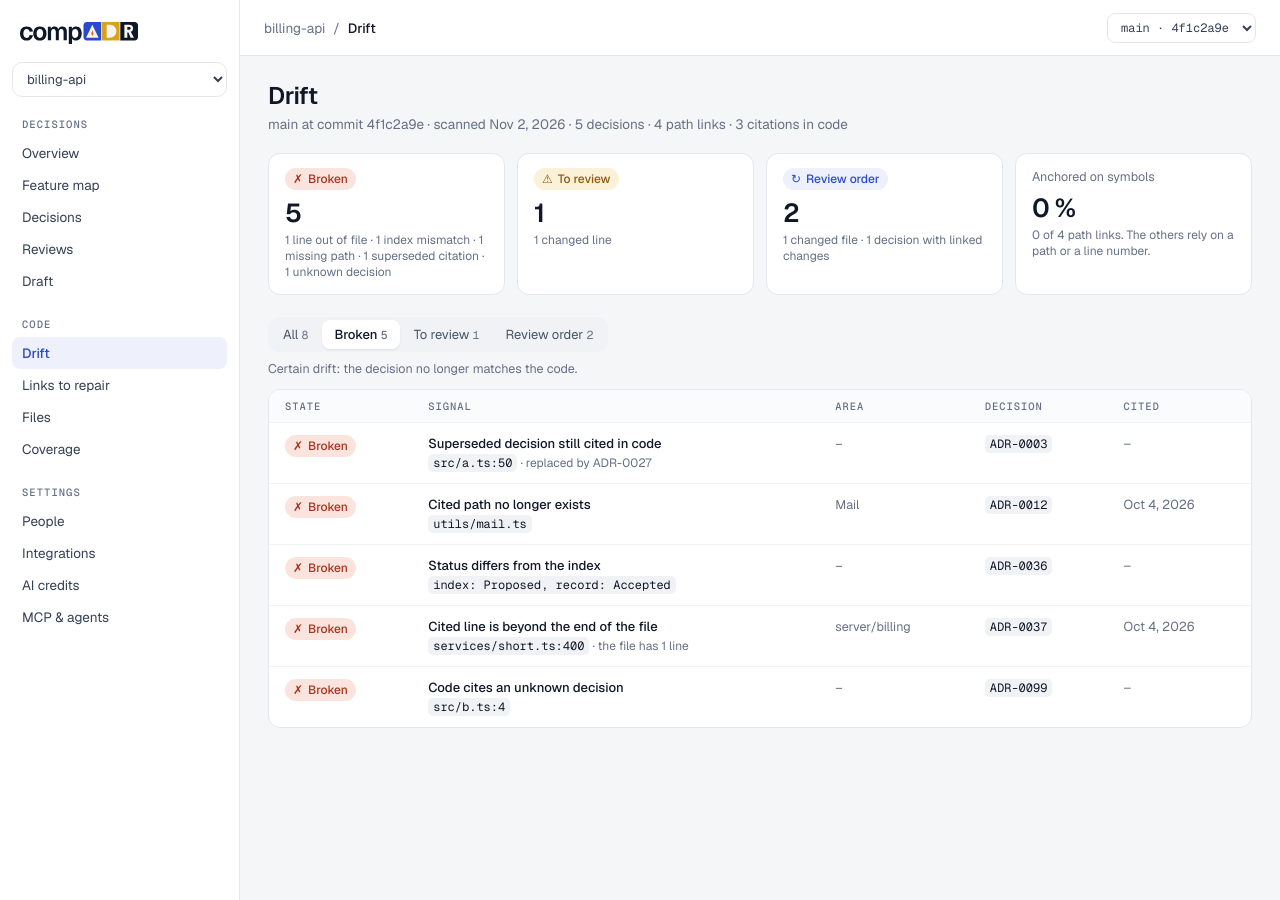
Test: the draft in the console › gives the command when the server keeps no draft
What coordinates should you click on to do the following:
click the button "Decisions"
I would click on:
 (120, 217)
Its box is [12,201,227,233].
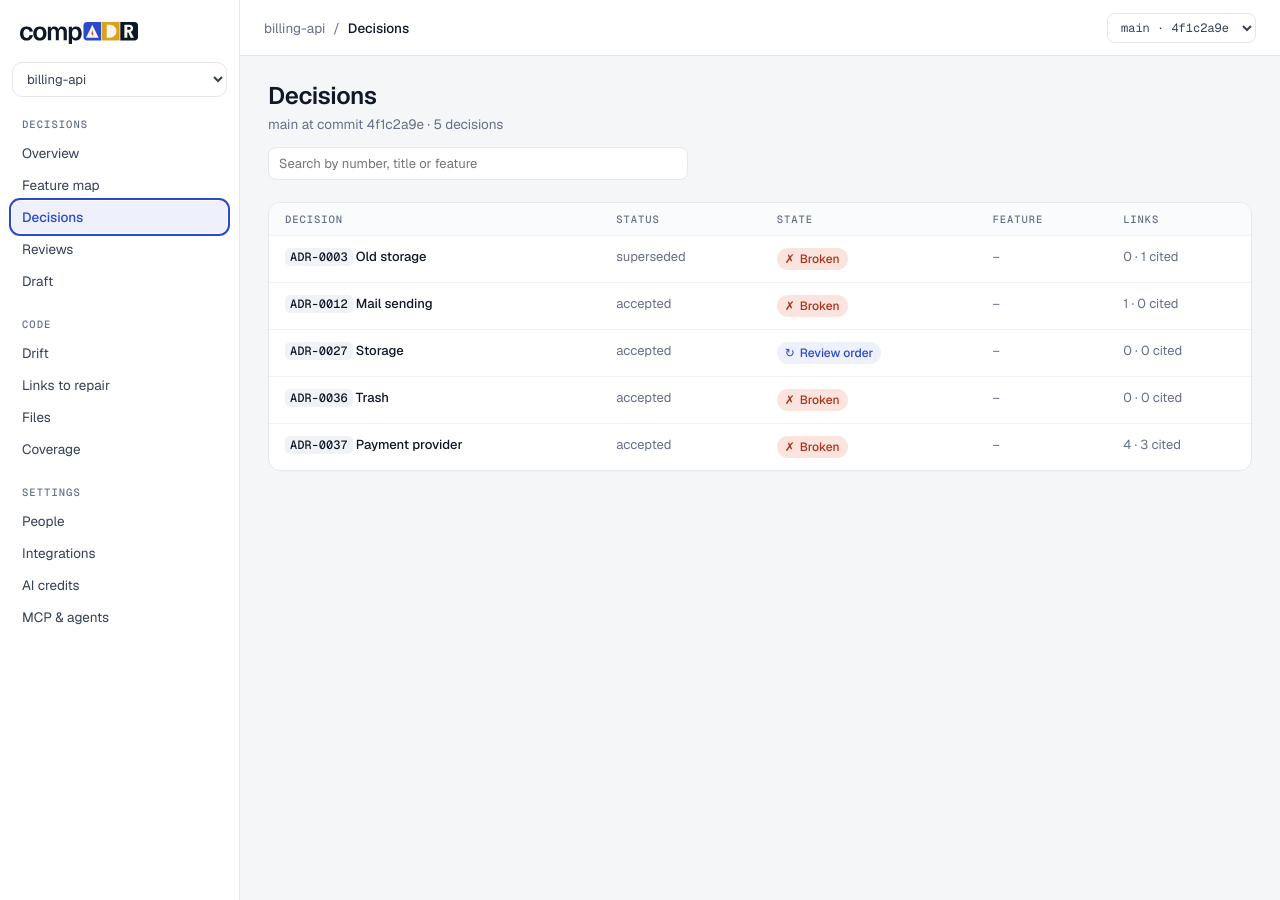
What coordinates should you click on to do the following:
click the button "ADR-0037 Payment provider"
I would click on:
 (374, 444)
Its box is [285,436,463,453].
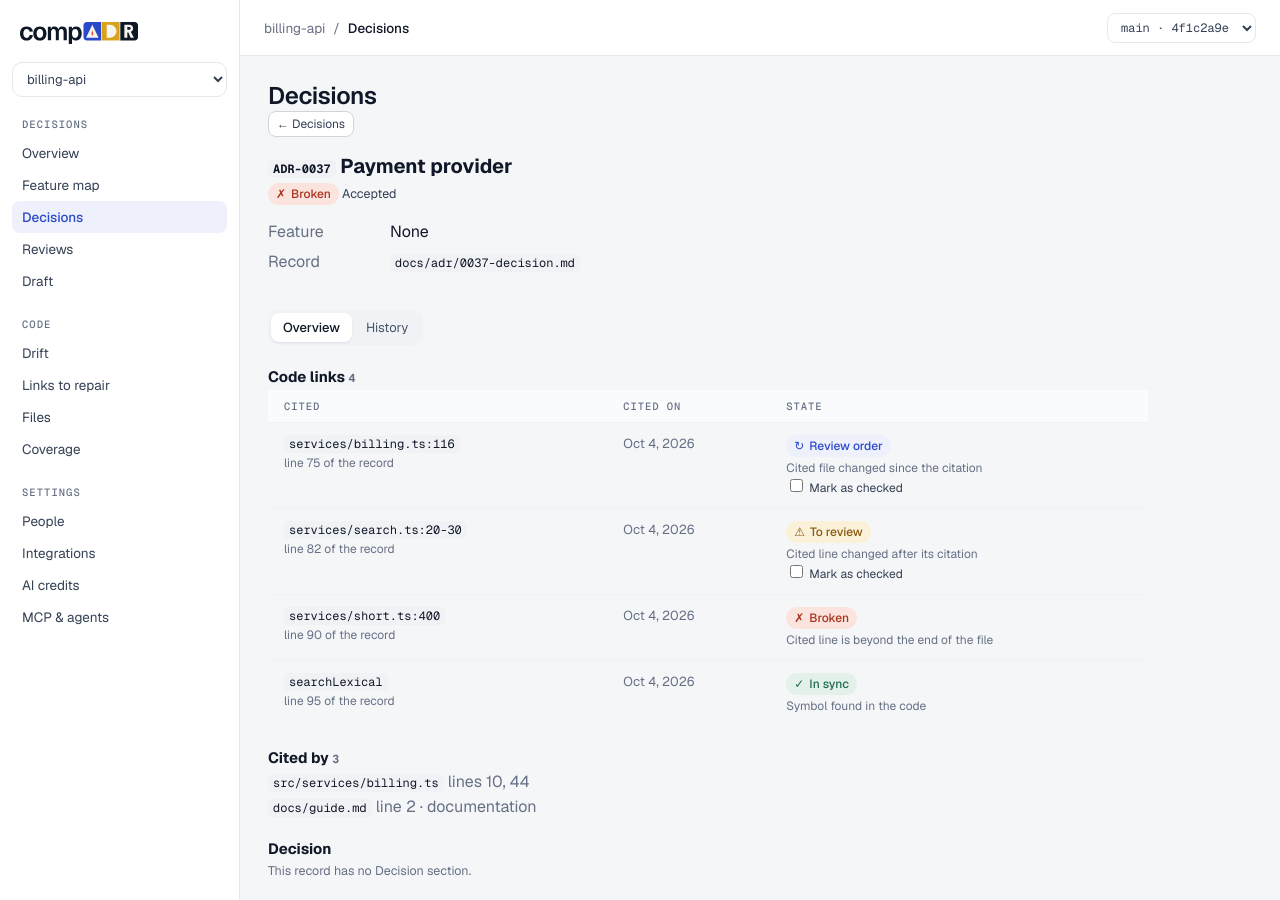
What coordinates should you click on to do the following:
click the checkbox labelled "Mark as checked" below "Cited file changed since the citation"
I would click on:
 (797, 486)
Its box is [790,479,803,492].
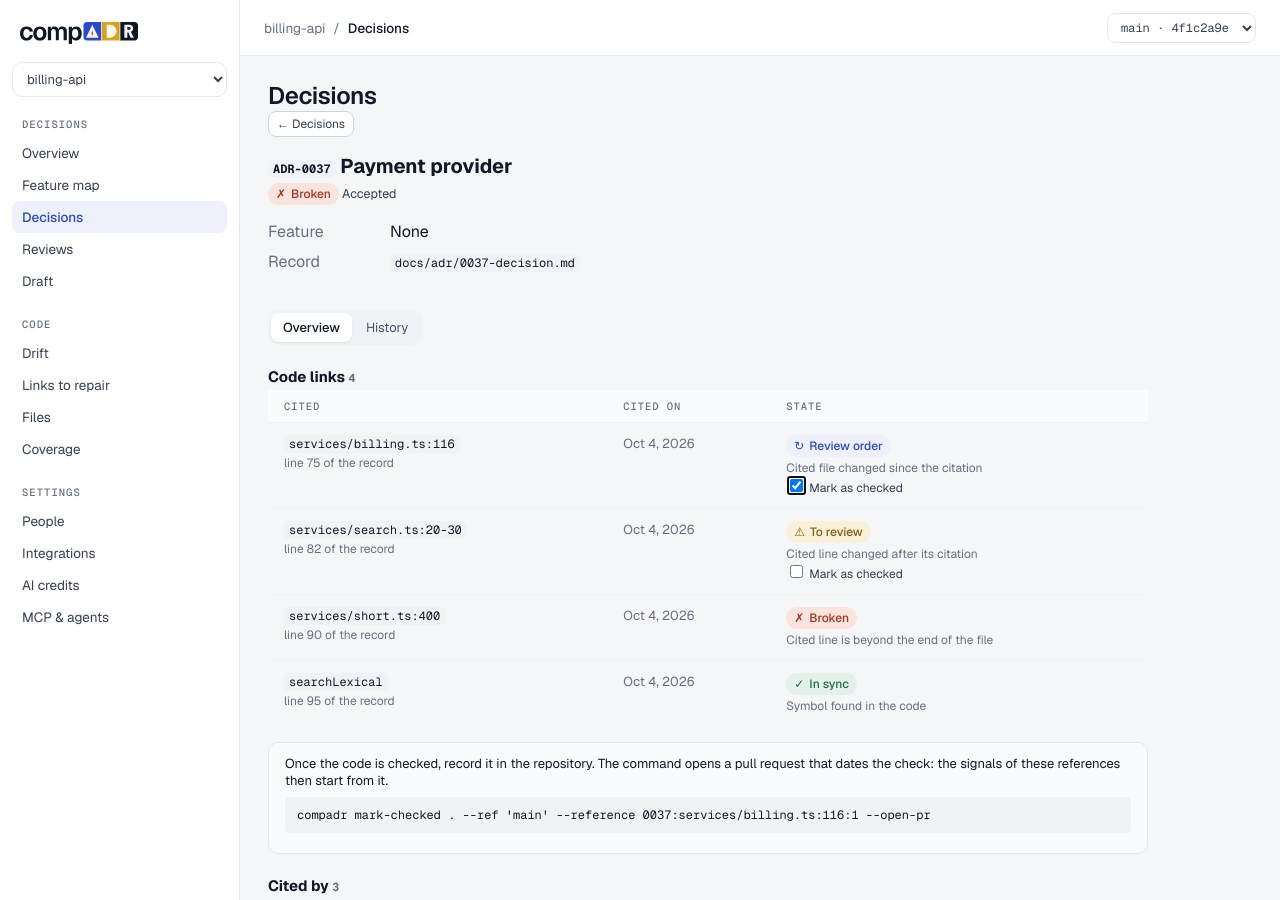
Now the text "compadr mark-checked" is shown, box [297,807,931,823]
What coordinates should you click on to do the following:
click the button "Draft"
I would click on:
 (120, 281)
Its box is [12,265,227,297].
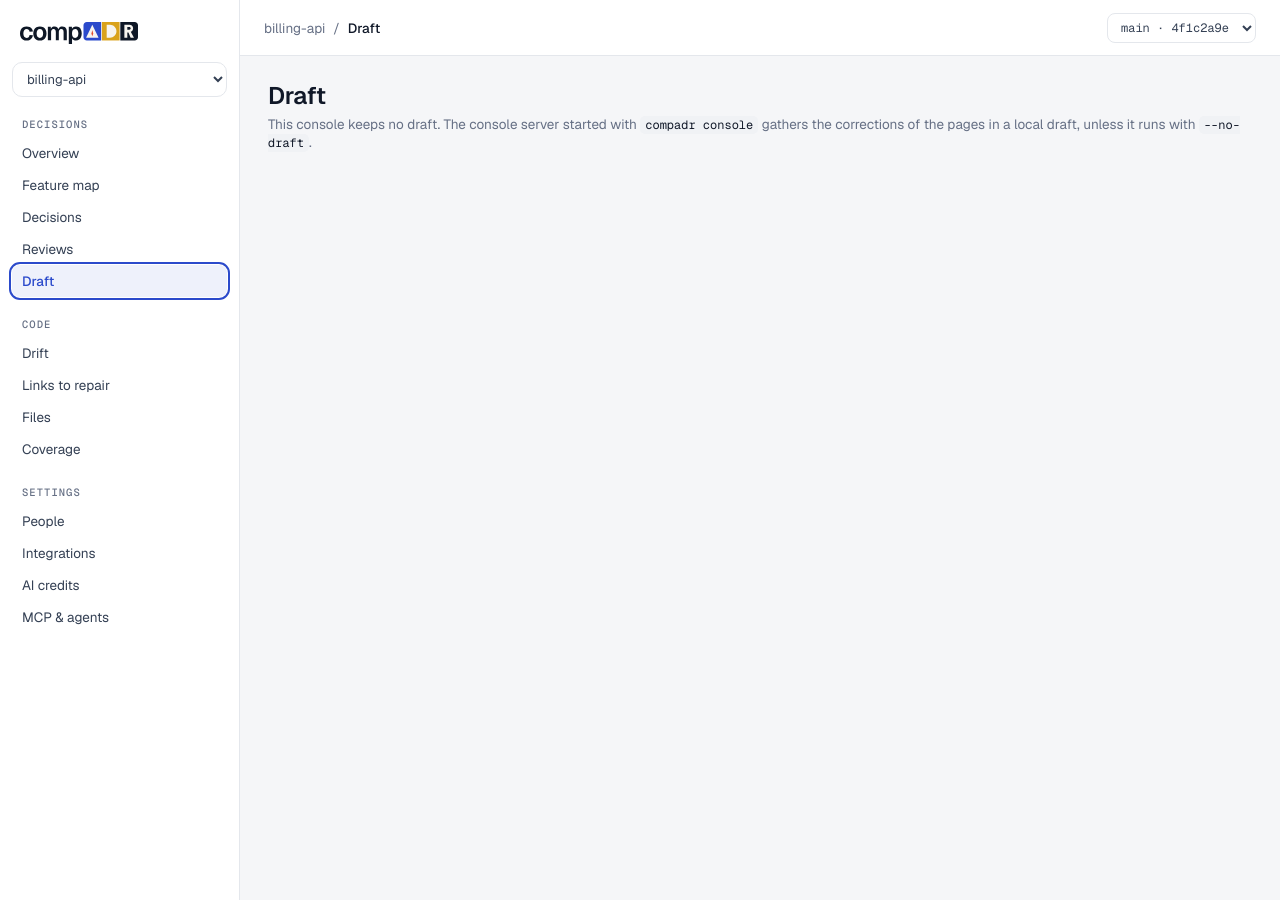
Now the text "This console keeps no draft" is shown, box [268,115,637,133]
